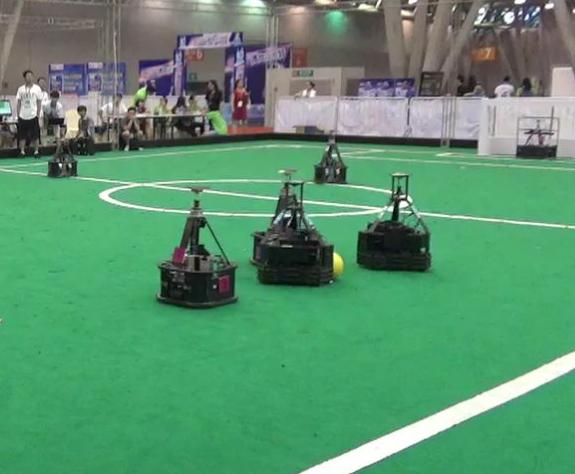robot: (154, 182, 240, 307), (254, 167, 338, 284), (357, 165, 437, 274)
